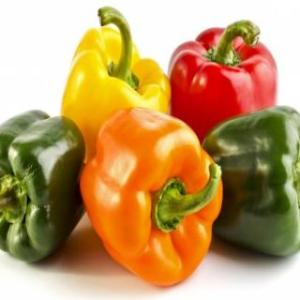bell_pepper: (79, 105, 223, 287), (58, 5, 166, 168), (204, 103, 300, 260), (168, 20, 278, 136), (0, 108, 74, 262)
